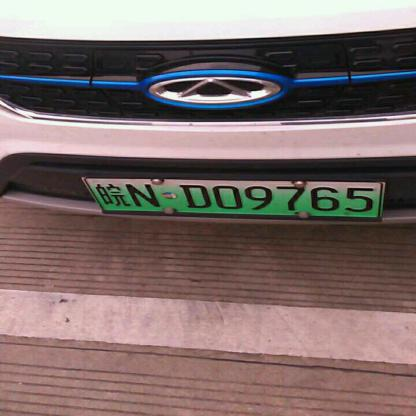lp: (80, 176, 384, 219)
